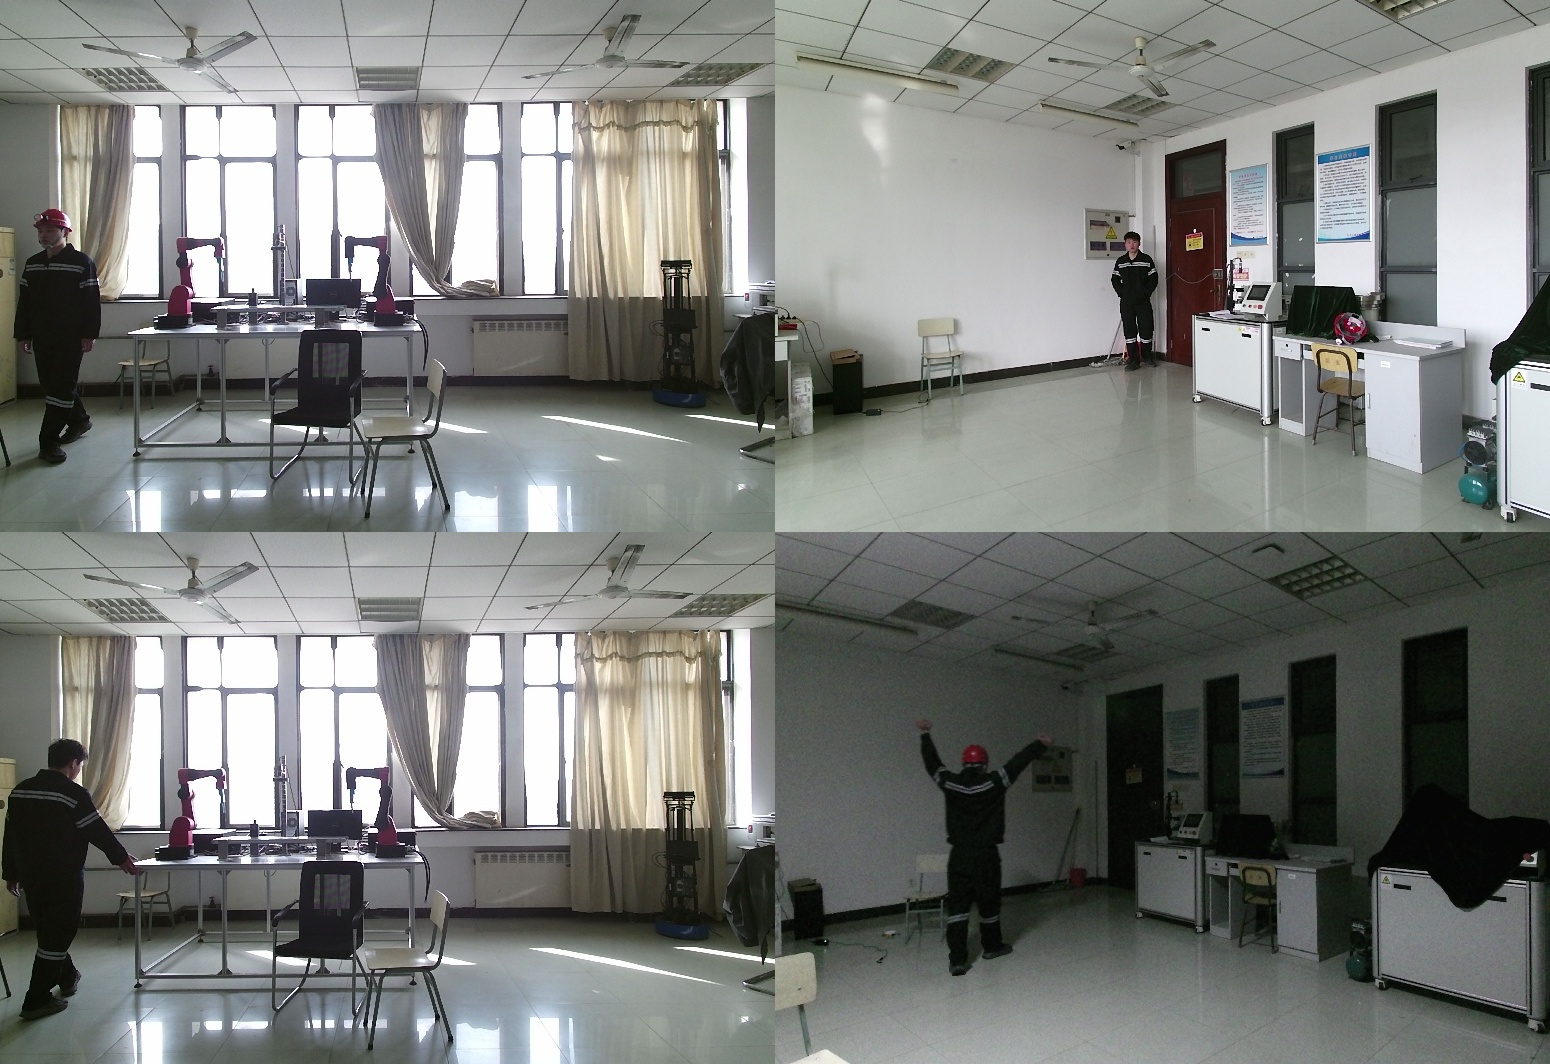person: (1, 738, 140, 1015), (908, 718, 1045, 978), (9, 207, 106, 465), (1111, 232, 1163, 374)
